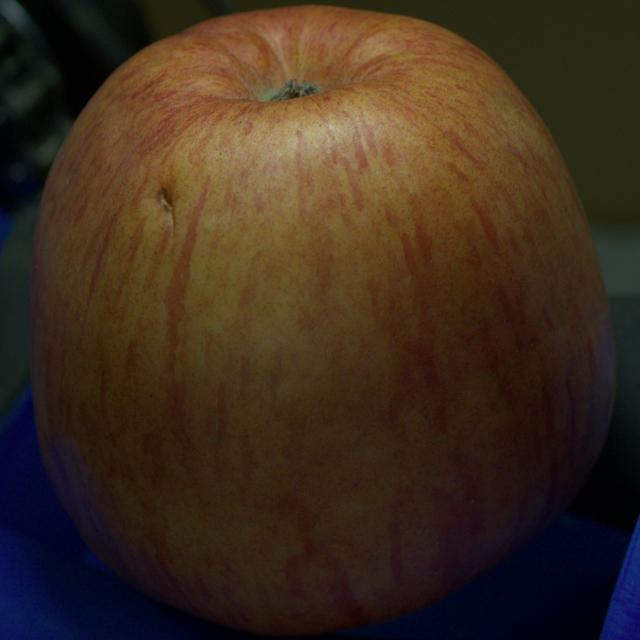apple: (30, 6, 615, 634)
scratch: (158, 187, 175, 232)
